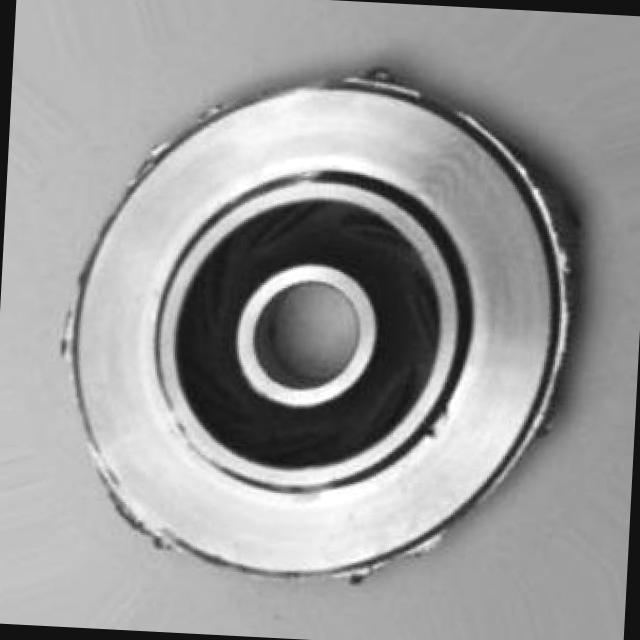Defect: (346, 54, 398, 97)
